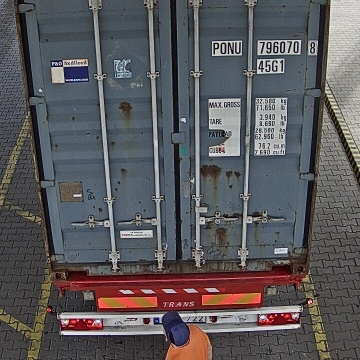serial_id: (212, 40, 317, 55)
